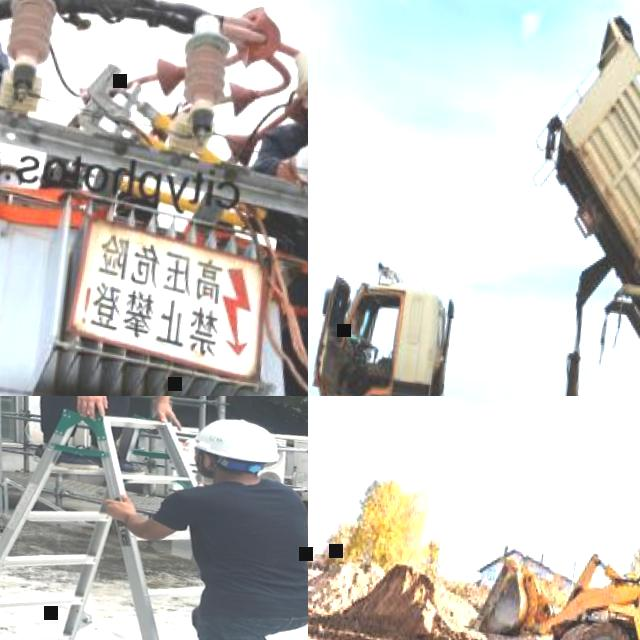helmet: (182, 414, 284, 462)
machinery: (308, 0, 640, 396), (457, 454, 640, 640)
no_mask: (192, 458, 210, 477)
no_vest: (181, 477, 308, 623), (259, 125, 308, 297)
person: (69, 404, 308, 640), (219, 18, 308, 396), (0, 396, 226, 483)
